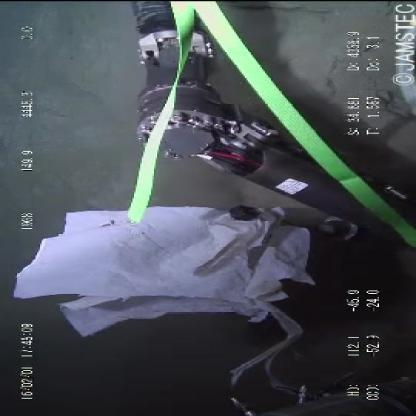Rov: (118, 0, 414, 236)
Rác: (12, 196, 332, 338)
